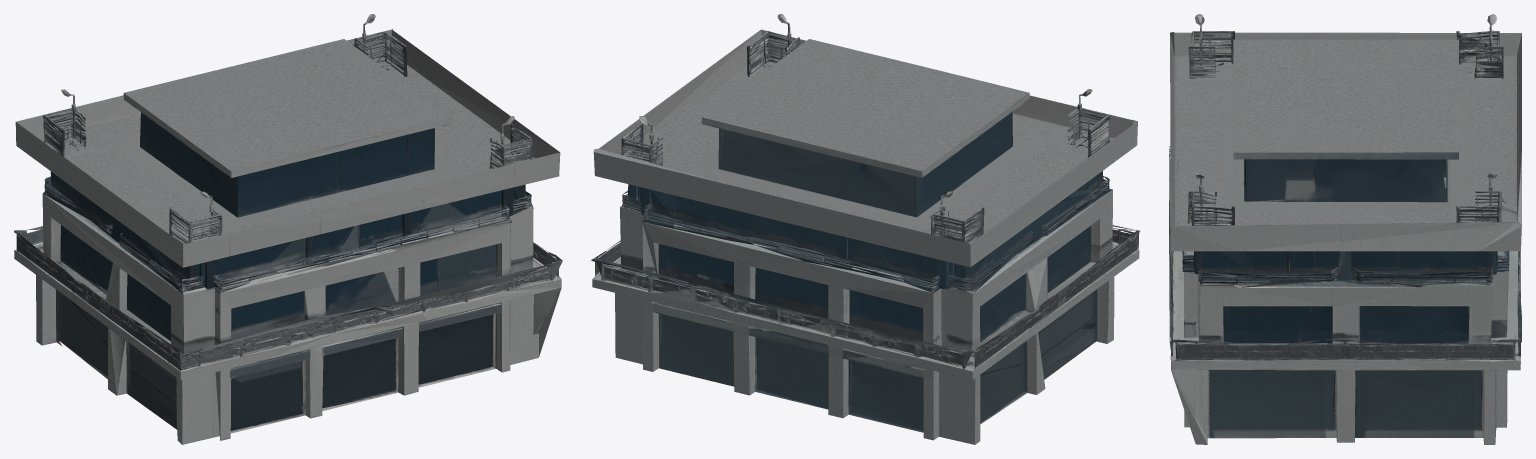
Rendered from silverstone-pit-building.glb.
3 views of the same model, side by side, from view 1: azimuth 30°, elevation 25°; view 2: azimuth 150°, elevation 25°; view 3: azimuth 270°, elevation 25° (orthographic). The views are drawn at different scales.
Parts seen in each view (by area): view 1: mesh_node; view 2: mesh_node; view 3: mesh_node.
Part boxes in pixels (x1,y1,x2,y2): mesh_node: (14,14,562,444); mesh_node: (591,14,1139,444); mesh_node: (1169,14,1521,444).
Size of the model in its own units: 1.9 by 1.17 by 1.45.
1 material, 1 textured.
